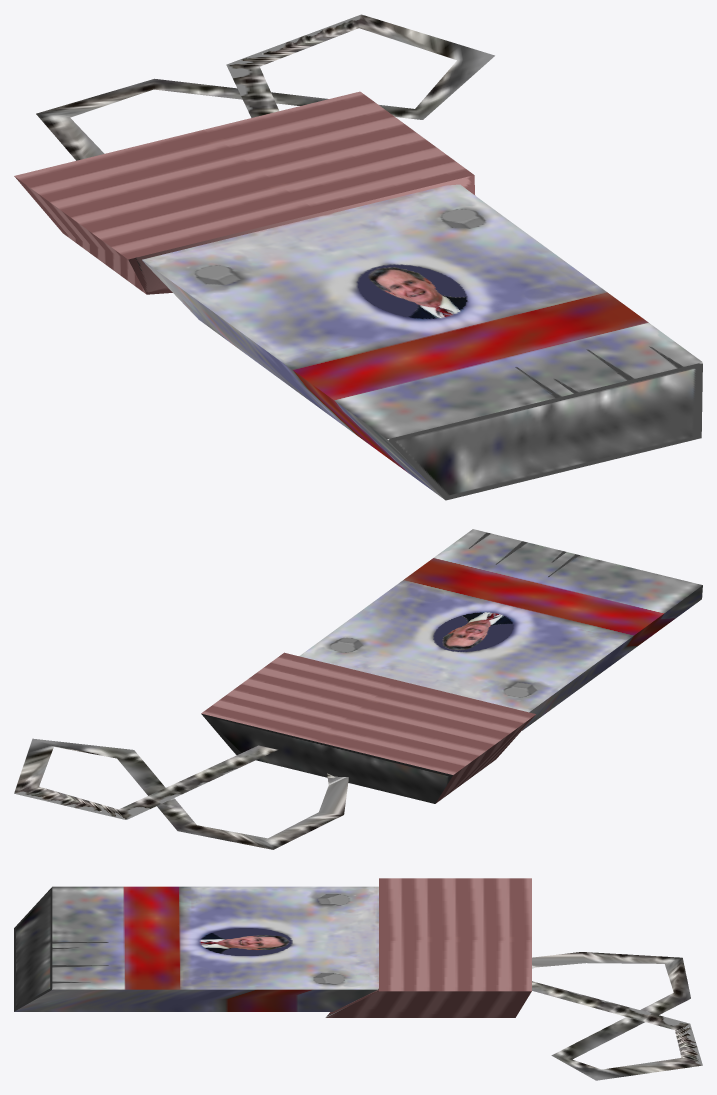
The model's file is pkey.obj.
3 views of the same model, one above another, from view 1: azimuth 30°, elevation 25°; view 2: azimuth 150°, elevation 25°; view 3: azimuth 270°, elevation 25° (orthographic). The views are drawn at different scales.
Visible parts, largest first — view 1: Box02; view 2: Box02; view 3: Box02.
Boxes of the visible parts, box(x1,y1,x2,y2) form: Box02: box(14, 14, 702, 500); Box02: box(14, 529, 702, 849); Box02: box(14, 878, 702, 1080).
Size of the model in its own units: 27.88 by 3.04 by 46.92.
